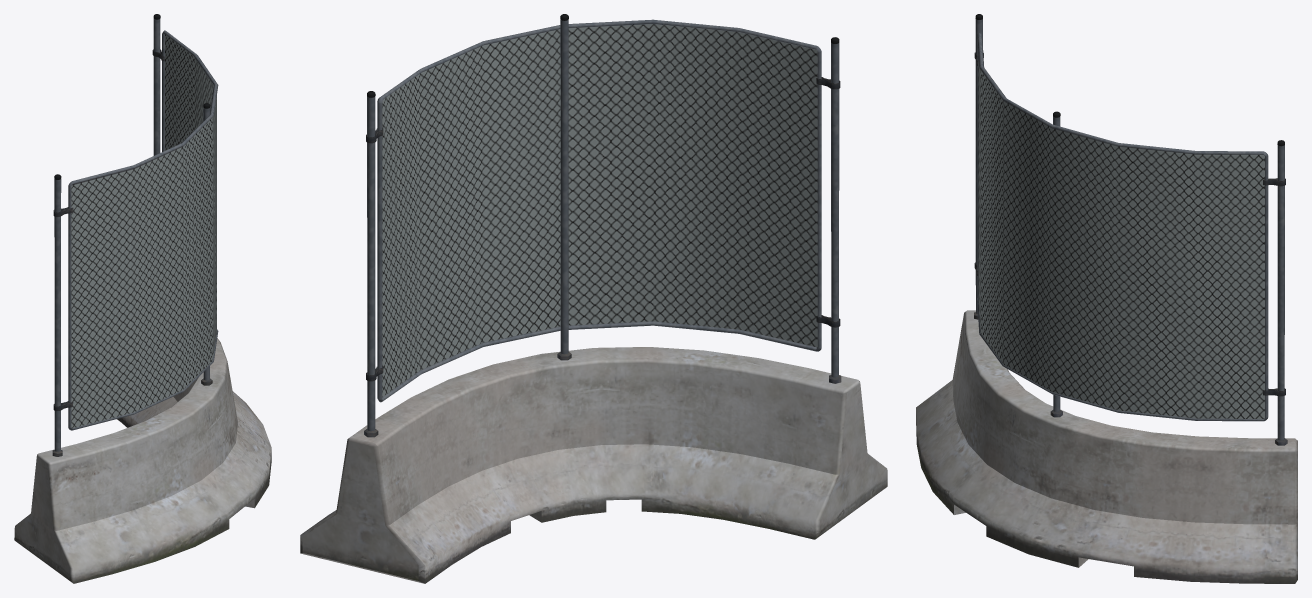
Rendered from Fence_A_B.fbx.
3 views of the same model, side by side, from view 1: azimuth 30°, elevation 25°; view 2: azimuth 150°, elevation 25°; view 3: azimuth 270°, elevation 25° (orthographic). The views are drawn at different scales.
Parts seen in each view (by area): view 1: Fence_A_B; view 2: Fence_A_B; view 3: Fence_A_B.
Part boxes in pixels (box(x1,y1,x2,y2)): Fence_A_B: box(14, 14, 271, 583); Fence_A_B: box(300, 14, 887, 583); Fence_A_B: box(916, 14, 1297, 583).
Size of the model in its own units: 240 by 288 by 240.
